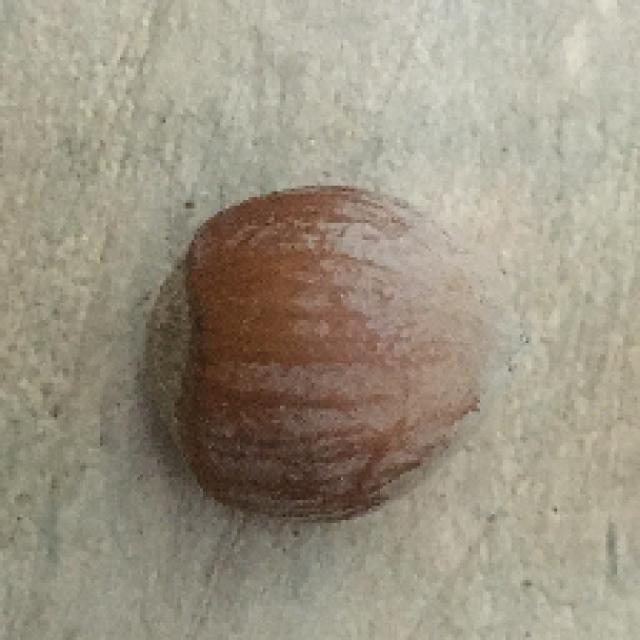qualityHazelnut: (144, 173, 494, 534)
